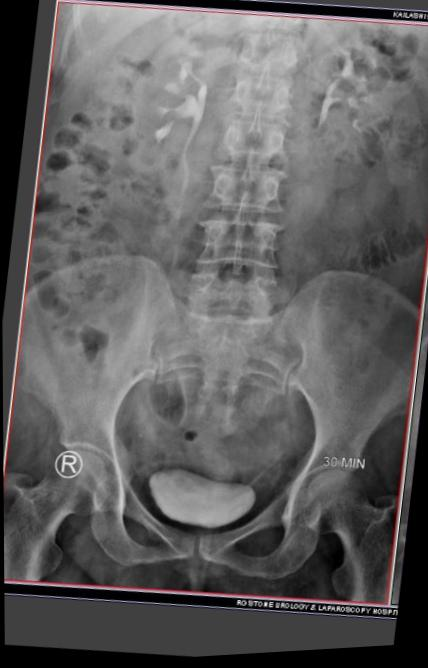bladder: (121, 493, 250, 587)
vertebrae: (217, 58, 292, 121)
